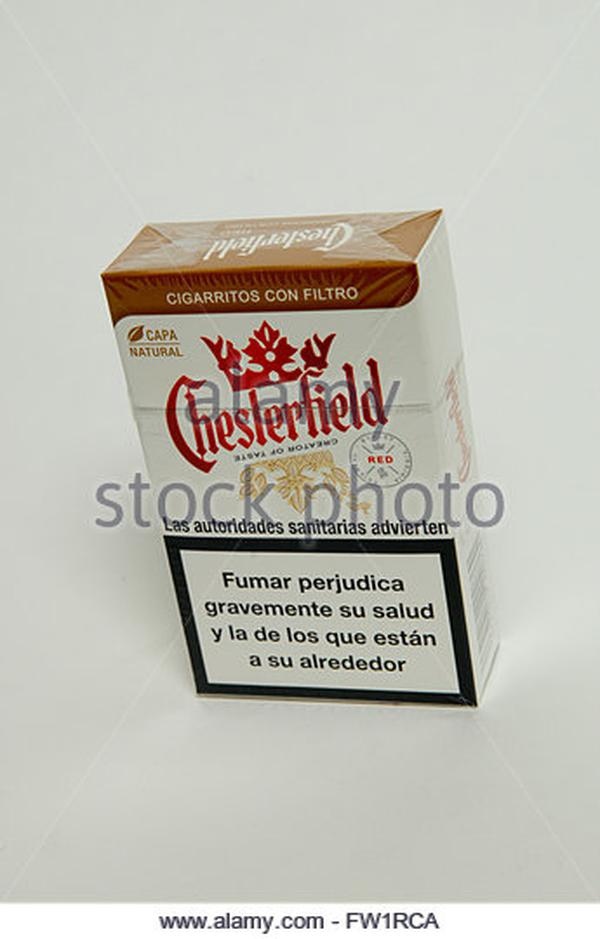chesterfield_red: (161, 262, 416, 665)
